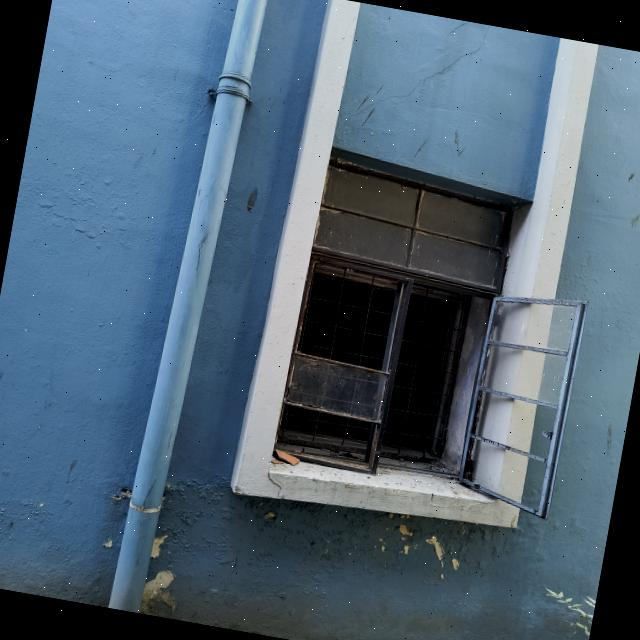crack: (340, 28, 488, 131)
peeling: (370, 512, 482, 583), (139, 571, 176, 617), (150, 535, 167, 558)
